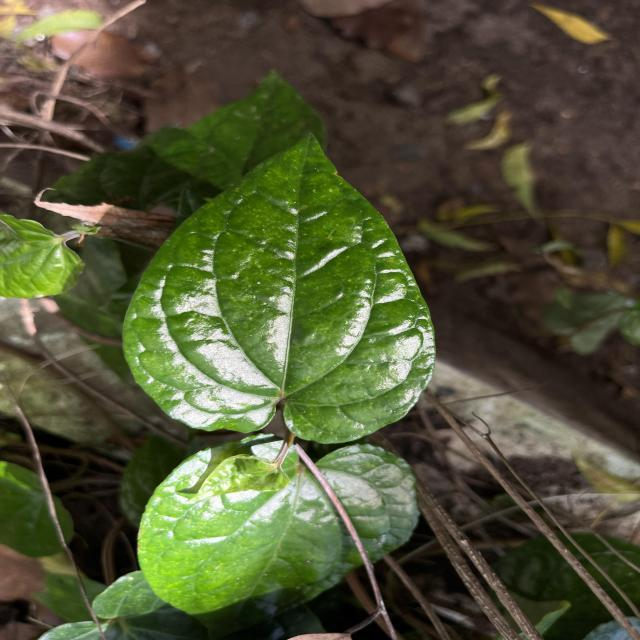Piper betle: (117, 128, 441, 447)
